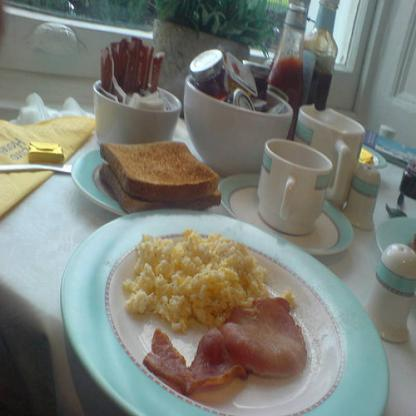bottle: (266, 0, 310, 163), (304, 0, 340, 113)
diningtable: (0, 106, 415, 415)
pottedplant: (150, 0, 274, 118)
